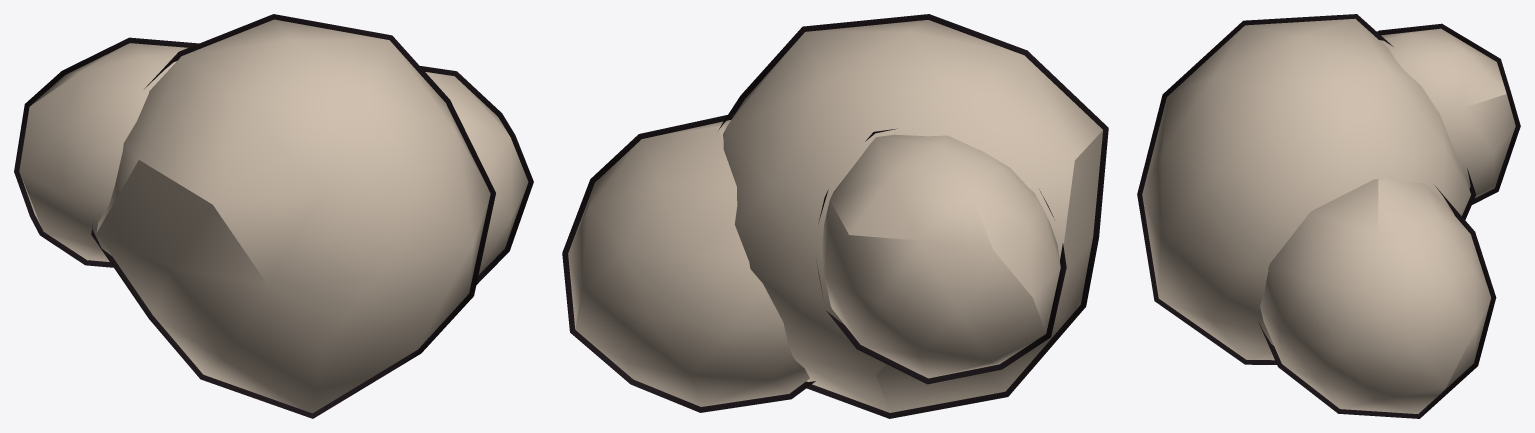
Rendered from SM_Bush_04.fbx.
The picture shows the model from 3 angles, left to right: view 1: azimuth 30°, elevation 25°; view 2: azimuth 150°, elevation 25°; view 3: azimuth 270°, elevation 25°; orthographic projection. The views are drawn at different scales.
Parts seen in each view (by area): view 1: SM_Bush_04; view 2: SM_Bush_04; view 3: SM_Bush_04.
Part boxes in pixels (x1,y1,x2,y2): SM_Bush_04: (14,14,533,418); SM_Bush_04: (562,14,1108,418); SM_Bush_04: (1137,14,1520,418).
Bounding box in the file's own units: 1.53 × 1.08 × 1.21.
